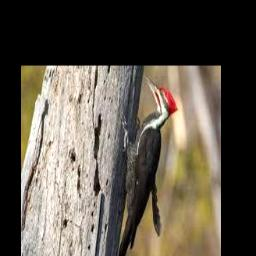Woodpecker: (113, 74, 178, 256)
